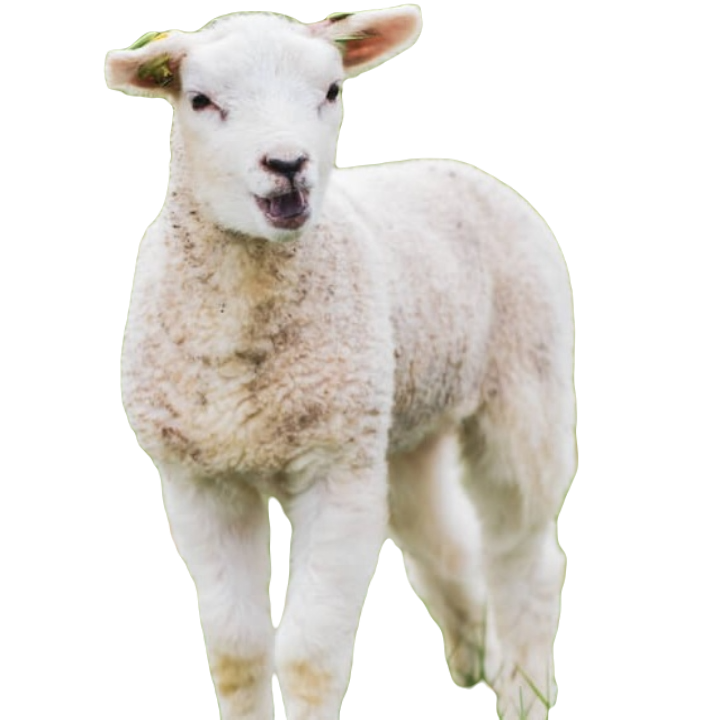Sheep: (100, 0, 586, 720)
